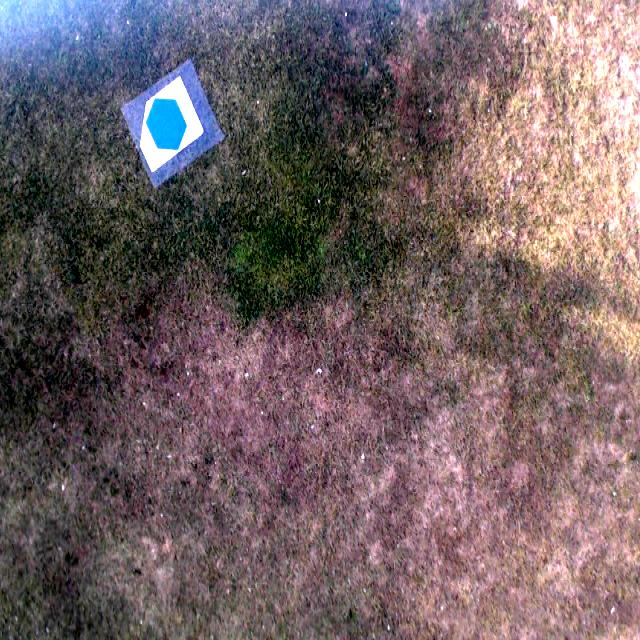blue_hexagon: (145, 96, 187, 150)
